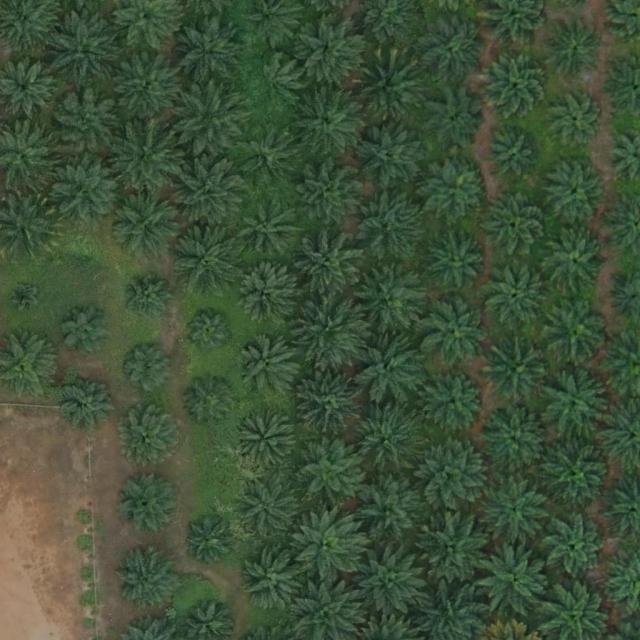Healthy: (356, 120, 427, 191), (291, 87, 362, 158), (111, 53, 182, 124), (109, 121, 180, 192), (420, 510, 491, 581), (354, 189, 424, 260), (295, 160, 365, 231), (295, 230, 365, 301), (173, 17, 243, 88), (174, 84, 244, 155), (176, 157, 246, 228), (172, 221, 242, 292), (112, 190, 183, 260), (49, 15, 119, 86), (51, 90, 122, 160), (296, 297, 367, 367), (357, 264, 427, 335), (355, 335, 425, 406), (351, 405, 422, 475), (356, 477, 427, 547), (357, 546, 427, 617), (419, 439, 489, 510), (486, 339, 556, 410), (481, 405, 551, 476), (479, 546, 549, 617), (539, 369, 610, 439), (544, 442, 614, 513), (482, 50, 552, 120), (354, 55, 424, 125), (297, 17, 367, 87), (54, 157, 124, 227), (297, 370, 367, 440), (294, 438, 364, 508), (293, 514, 363, 584), (422, 298, 492, 368), (481, 260, 551, 330), (481, 480, 551, 550), (544, 18, 607, 81), (425, 90, 488, 153), (424, 230, 487, 293), (114, 548, 177, 611), (234, 266, 297, 329), (425, 371, 488, 434), (544, 518, 607, 581), (545, 161, 607, 224), (545, 234, 607, 297), (485, 194, 547, 257), (420, 18, 482, 81), (426, 159, 488, 222), (237, 125, 299, 188), (239, 200, 302, 262), (120, 406, 183, 468), (117, 473, 180, 535), (238, 336, 300, 399), (235, 409, 297, 472), (241, 480, 303, 543), (242, 551, 305, 613), (545, 299, 608, 361), (488, 129, 543, 184), (248, 57, 303, 112), (64, 376, 119, 431), (183, 376, 238, 431), (550, 93, 604, 148), (60, 304, 114, 359), (120, 341, 174, 396), (187, 518, 234, 565)
Small: (122, 273, 176, 328), (186, 308, 233, 355), (9, 282, 40, 314), (70, 243, 101, 274)
